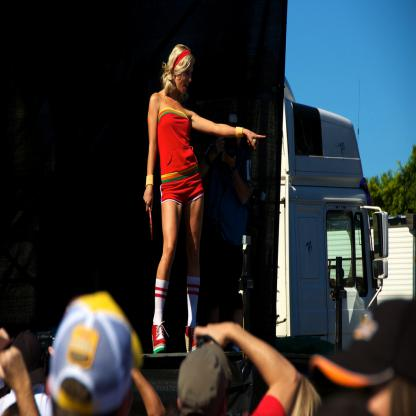Truck: (249, 83, 393, 360)
